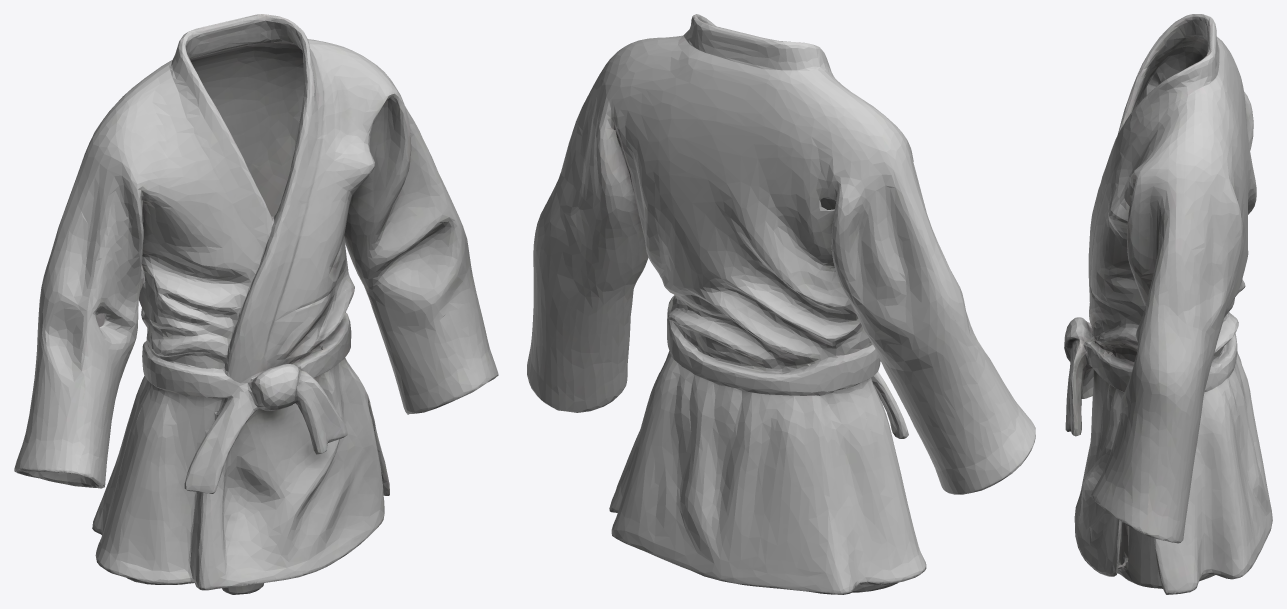
The model's file is judo-uniform.glb.
The picture shows the model from 3 angles, left to right: view 1: azimuth 30°, elevation 25°; view 2: azimuth 150°, elevation 25°; view 3: azimuth 270°, elevation 25°; orthographic projection. The views are drawn at different scales.
Visible parts, largest first — view 1: geometry_0; view 2: geometry_0; view 3: geometry_0.
Boxes of the visible parts, <box> form: geometry_0: <box>14,14,498,594</box>; geometry_0: <box>527,14,1035,594</box>; geometry_0: <box>1064,14,1272,594</box>.
Bounding box in the file's own units: 0.9322 × 0.9991 × 0.3588.
1 material, 1 textured.
